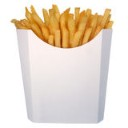frenchfries: (12, 4, 114, 45)
